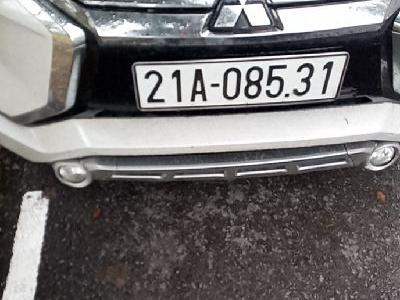lisence: (131, 47, 350, 113)
